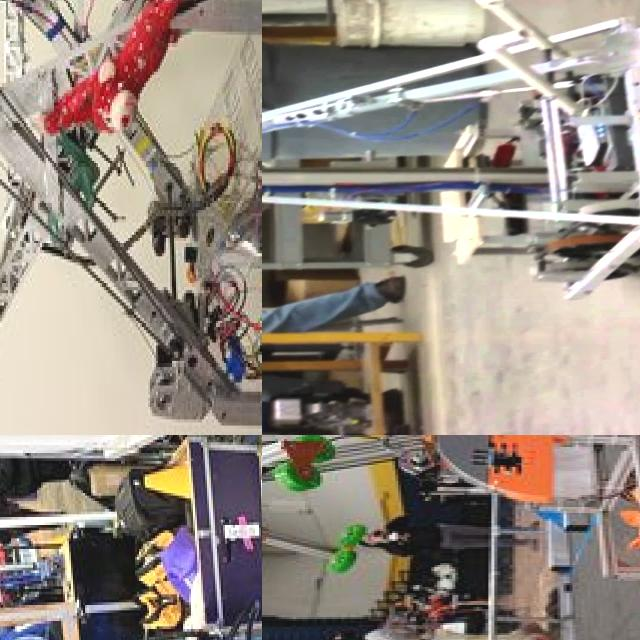FRC-Robots: (262, 0, 640, 306), (0, 0, 262, 422), (262, 435, 640, 595), (0, 435, 262, 640)
